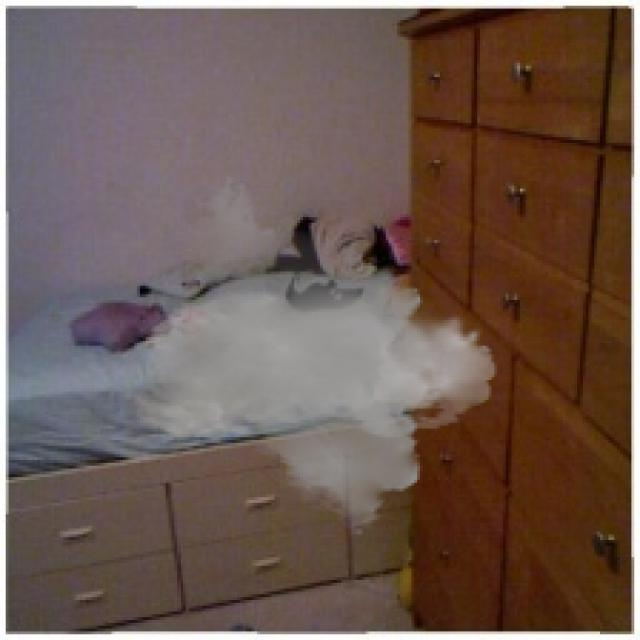smoke: (132, 174, 497, 537)
